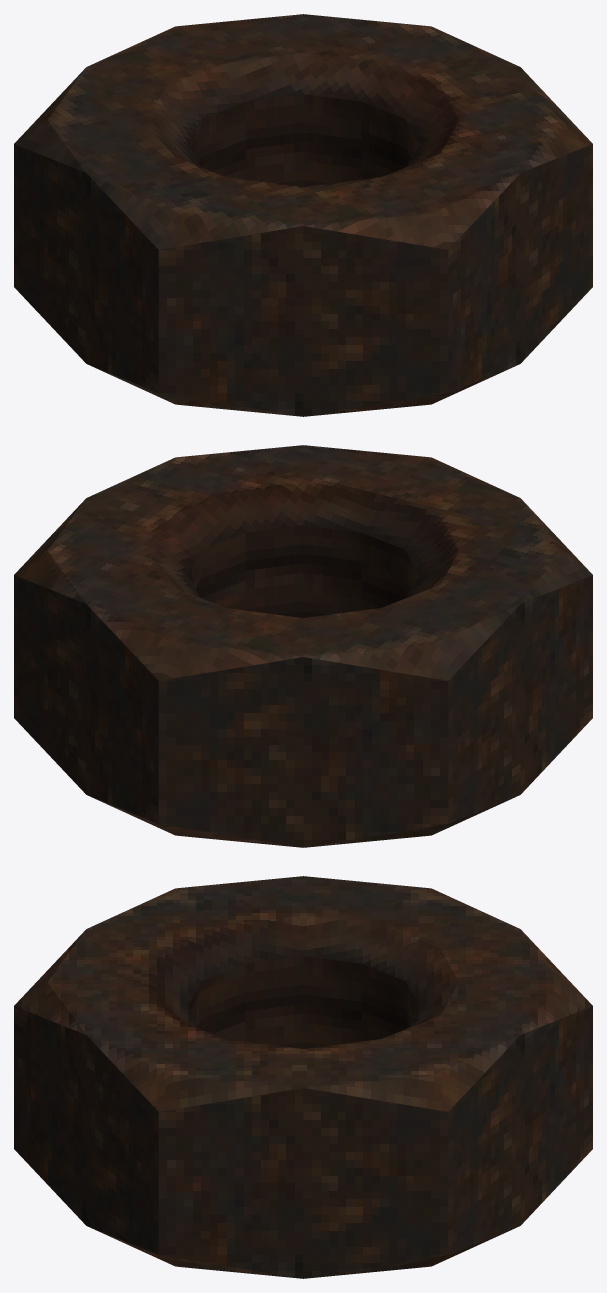
Rendered from hexagon_nut_mx_1.glb.
3 renders of one model, top to bottom at view 1: azimuth 30°, elevation 25°; view 2: azimuth 150°, elevation 25°; view 3: azimuth 270°, elevation 25°, orthographic.
Visible parts, largest first — view 1: hexagon_nut_mx_1; view 2: hexagon_nut_mx_1; view 3: hexagon_nut_mx_1.
Part boxes in pixels (left/top/right/bottom): hexagon_nut_mx_1: left=14, top=14, right=592, bottom=416; hexagon_nut_mx_1: left=14, top=445, right=592, bottom=847; hexagon_nut_mx_1: left=14, top=876, right=592, bottom=1278.
Bounding box in the file's own units: 0.1905 × 0.08 × 0.22.
Materials: 1 (1 with a texture image).
